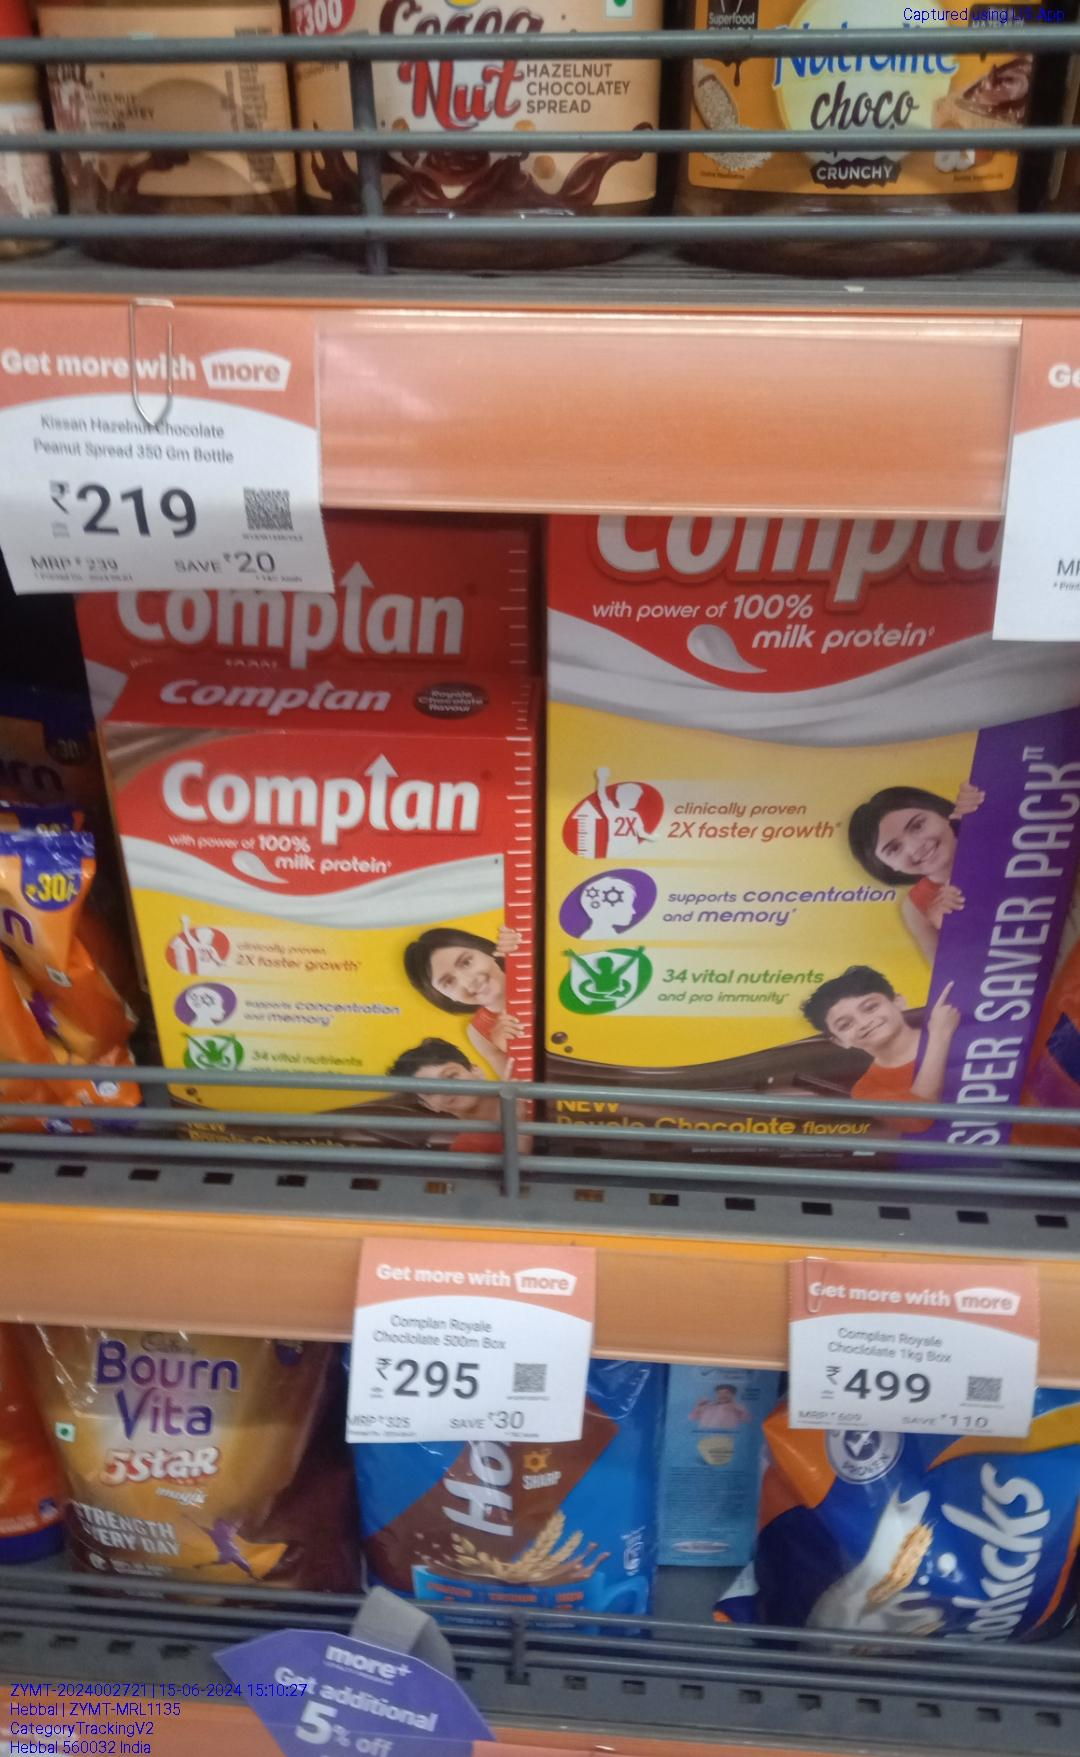COMPLAN_CHOCOLATE_1_KG_PACK: (552, 518, 1031, 1172)
COMPLAN_CHOCOLATE_500_GMS_PACK: (117, 727, 537, 1165)
